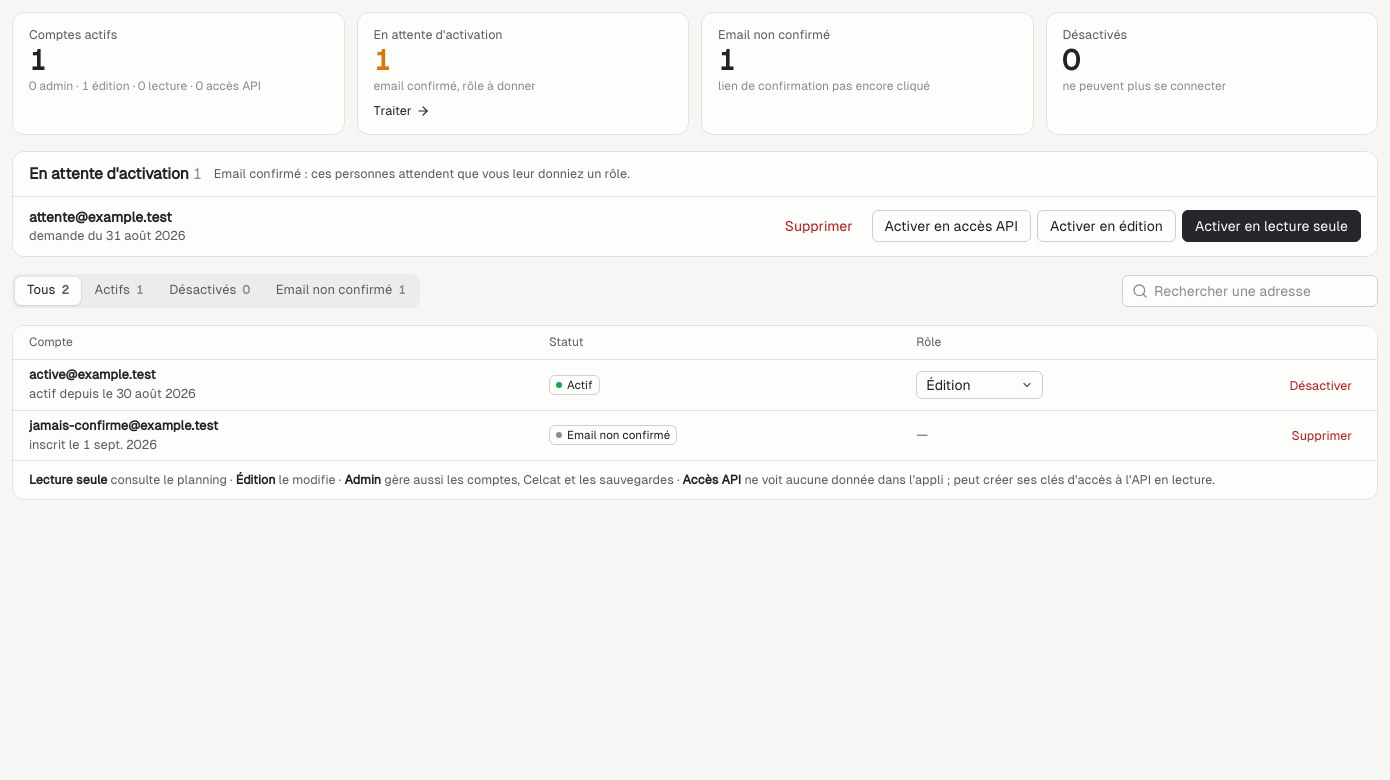
Scenario: AdminUsersView › should show the error message when the last-admin guard rejects a change
Expected: the text "active@example.test" is shown, [29,367,156,382]
Click the button "Désactiver": point(1321, 385) [1280,372,1361,398]
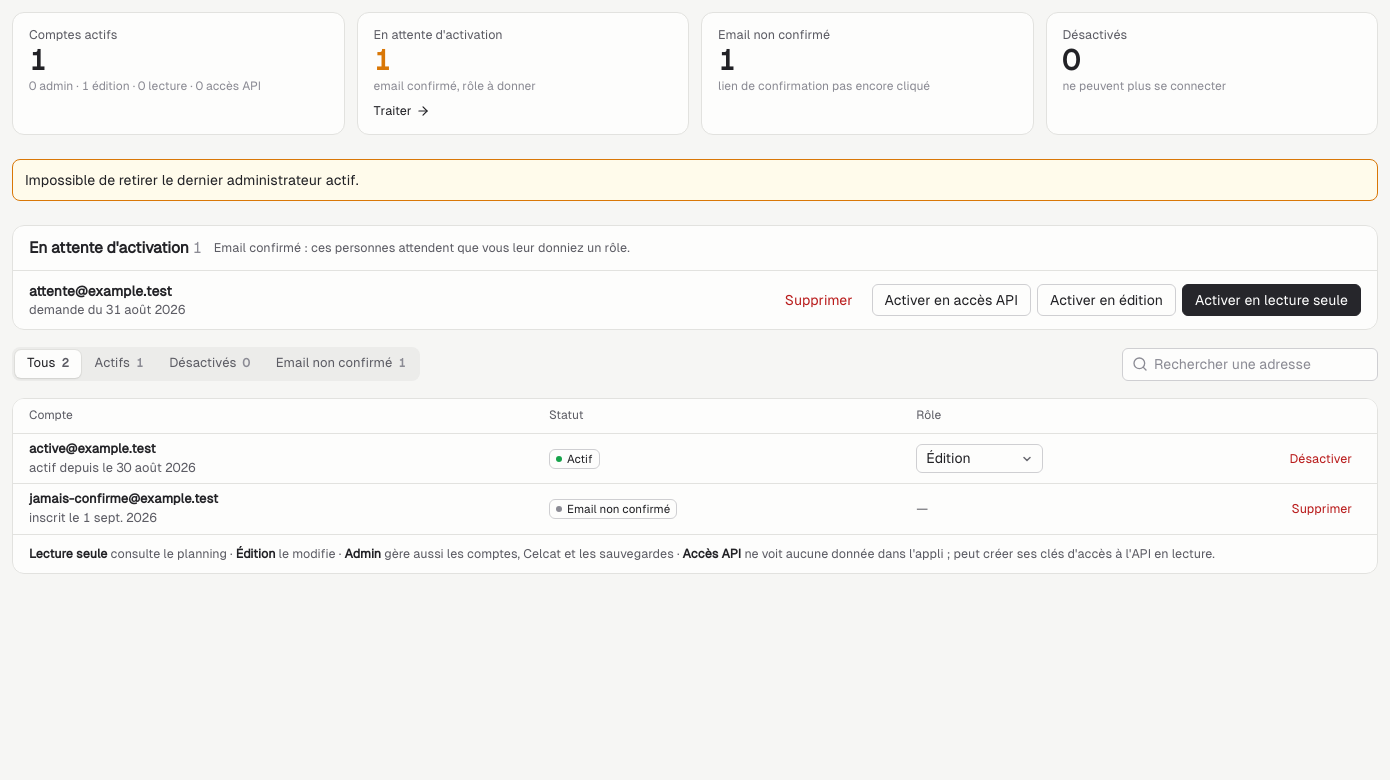
Now the message reads "Impossible de retirer le dernier administrateur actif.", box [25,172,359,188]
